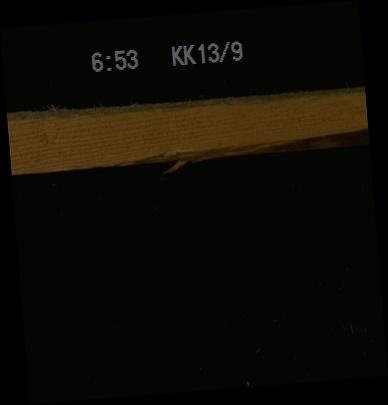wave: (103, 129, 369, 168)
